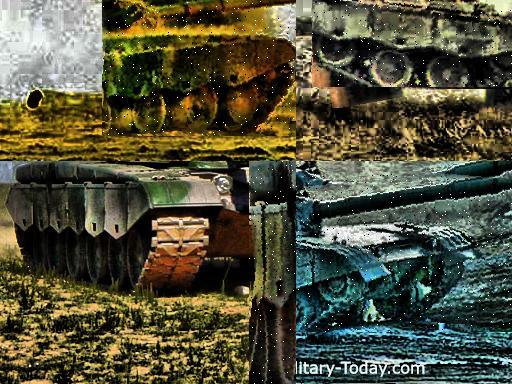tanks: (7, 162, 290, 294), (297, 175, 512, 333), (104, 1, 297, 136), (313, 1, 512, 87), (251, 162, 297, 384)
